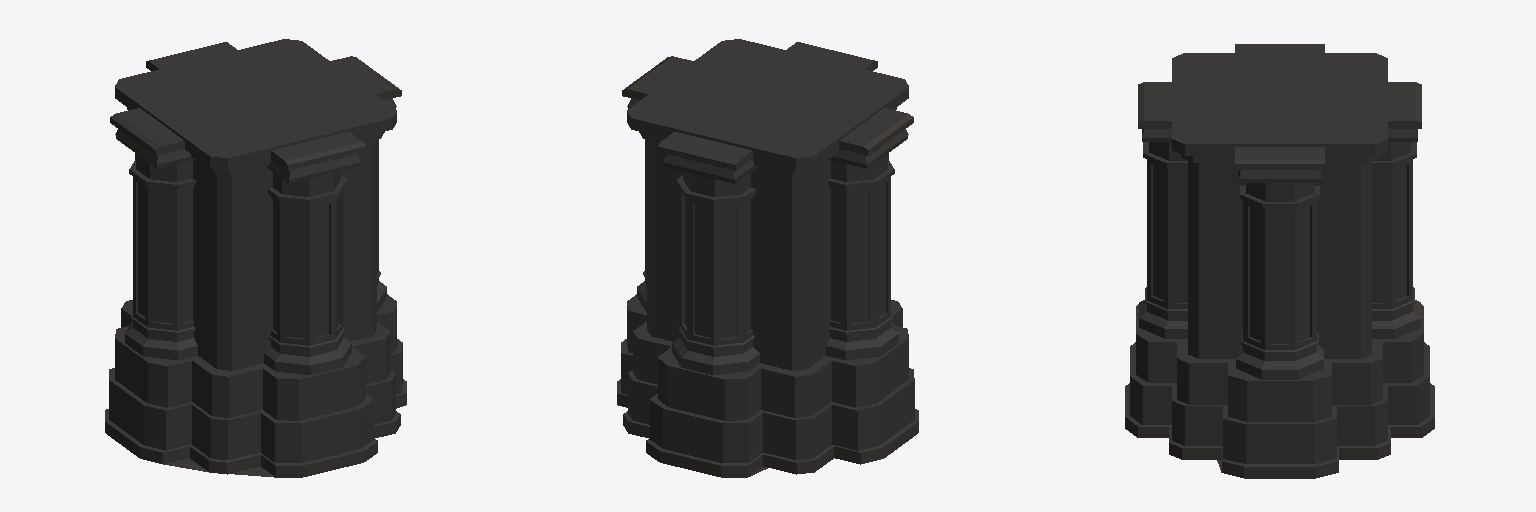
The model's file is Pedestal.obj.
3 renders of one model, left to right at view 1: azimuth 30°, elevation 25°; view 2: azimuth 150°, elevation 25°; view 3: azimuth 270°, elevation 25°, orthographic.
Parts seen in each view (by area): view 1: Pedestal_Cylinder.014; view 2: Pedestal_Cylinder.014; view 3: Pedestal_Cylinder.014.
Part boxes in pixels (x1,y1,x2,y2): Pedestal_Cylinder.014: (105,39,406,477); Pedestal_Cylinder.014: (617,39,918,477); Pedestal_Cylinder.014: (1125,44,1434,478).
Bounding box in the file's own units: 1.95 × 2.19 × 1.96.